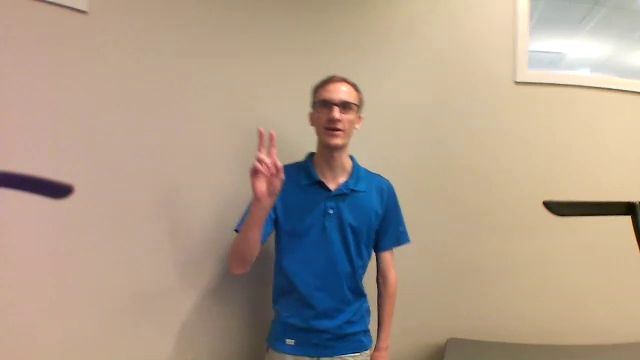peace: (245, 124, 293, 212)
